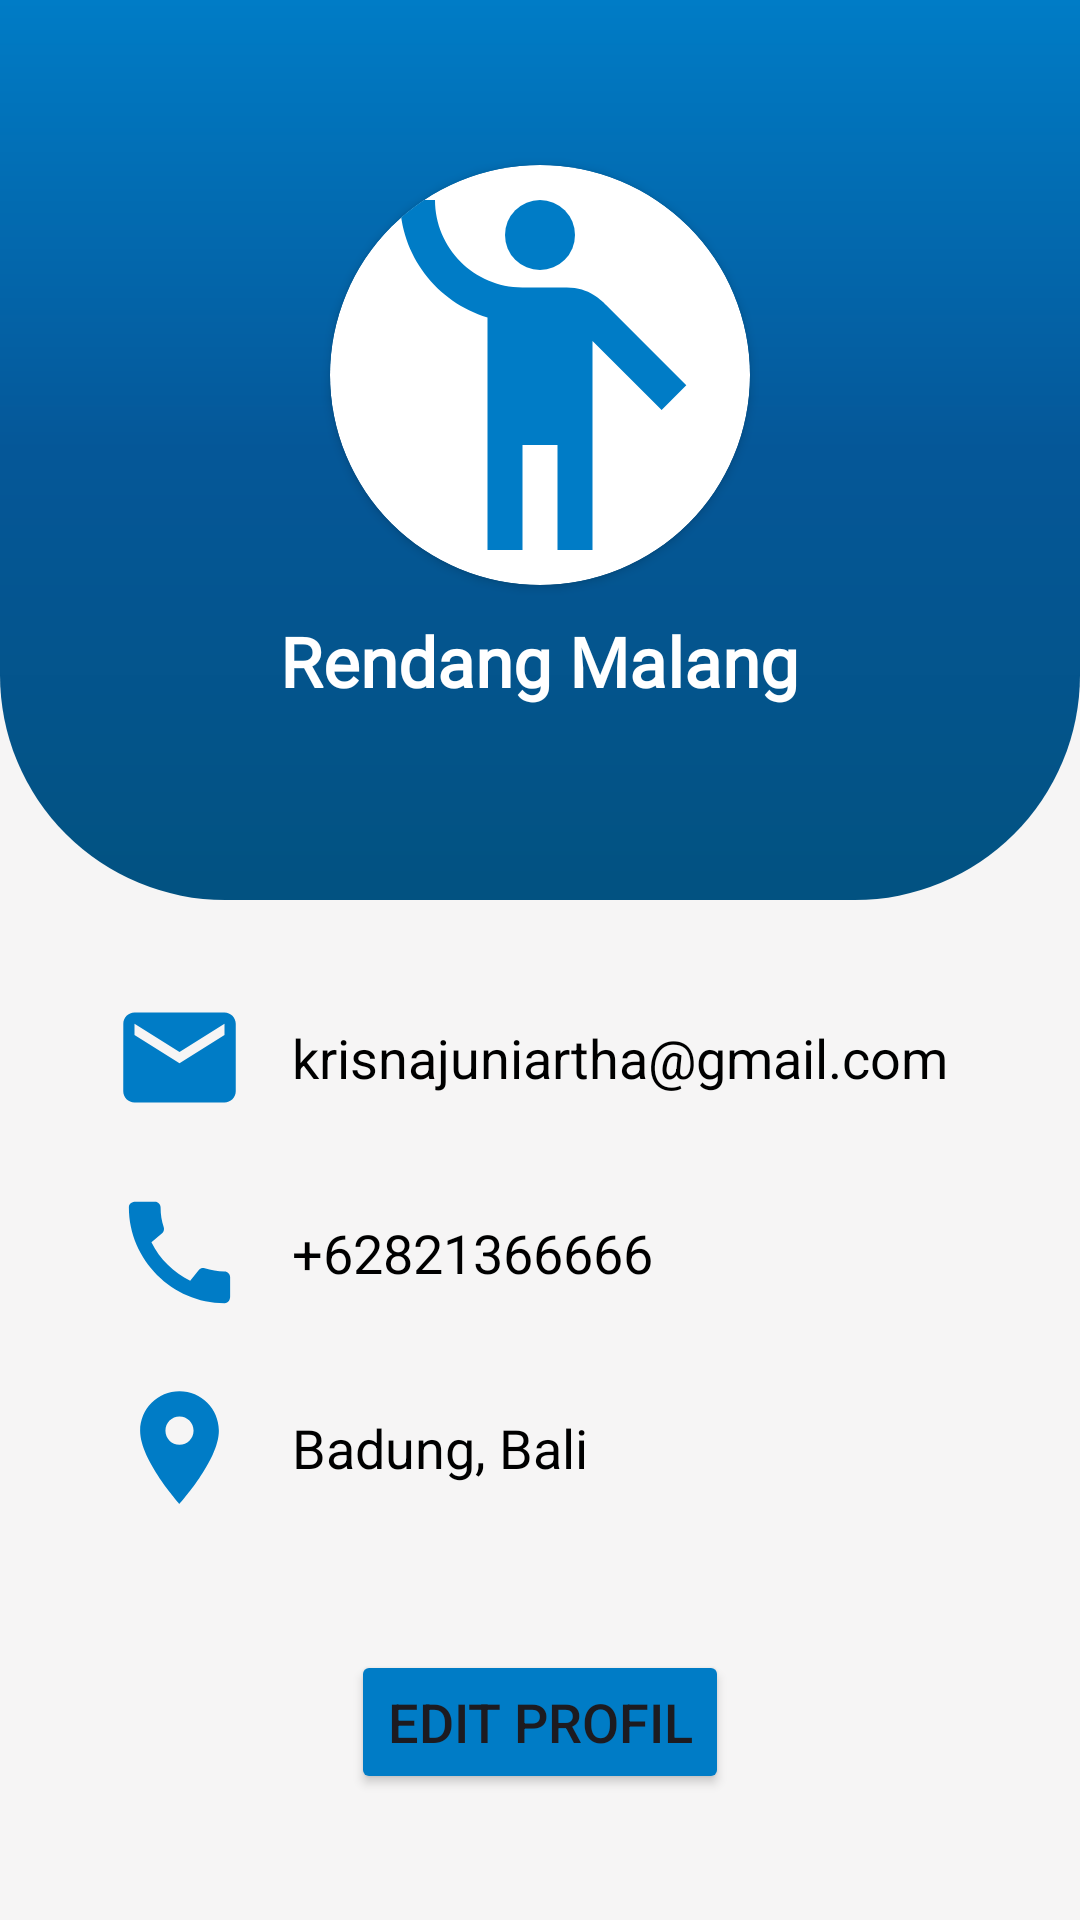

Where icons sit on this 1080w x 1920h app screen, as (x1, y1, x2, y2):
call: (128, 1201, 231, 1304)
email: (123, 1012, 236, 1103)
location: (140, 1391, 219, 1504)
